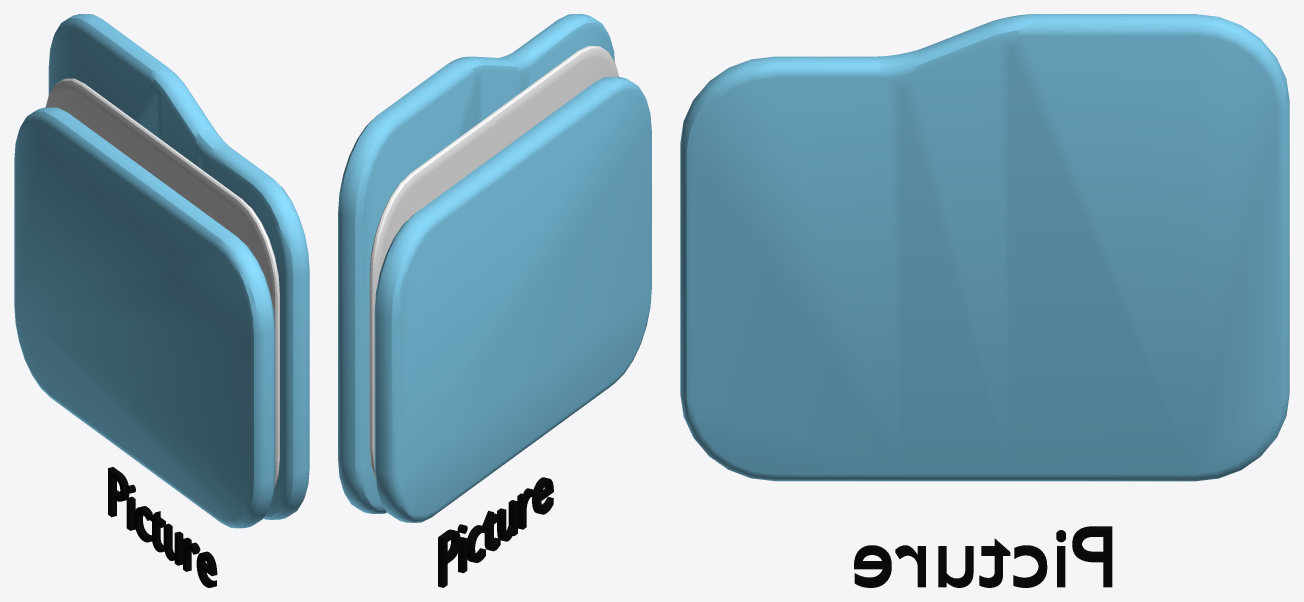
Rendered from Folder10_Picture.fbx.
The picture shows the model from 3 angles, left to right: view 1: azimuth 30°, elevation 25°; view 2: azimuth 150°, elevation 25°; view 3: azimuth 270°, elevation 25°; orthographic projection. The views are drawn at different scales.
Parts seen in each view (by area): view 1: Plane.047; view 2: Plane.047; view 3: Plane.047.
Boxes of the visible parts, x1,y1,x2,y2 form: Plane.047: (14,14,309,587); Plane.047: (338,14,651,587); Plane.047: (680,14,1289,587).
Size of the model in its own units: 2.67 by 20.36 by 19.39.
